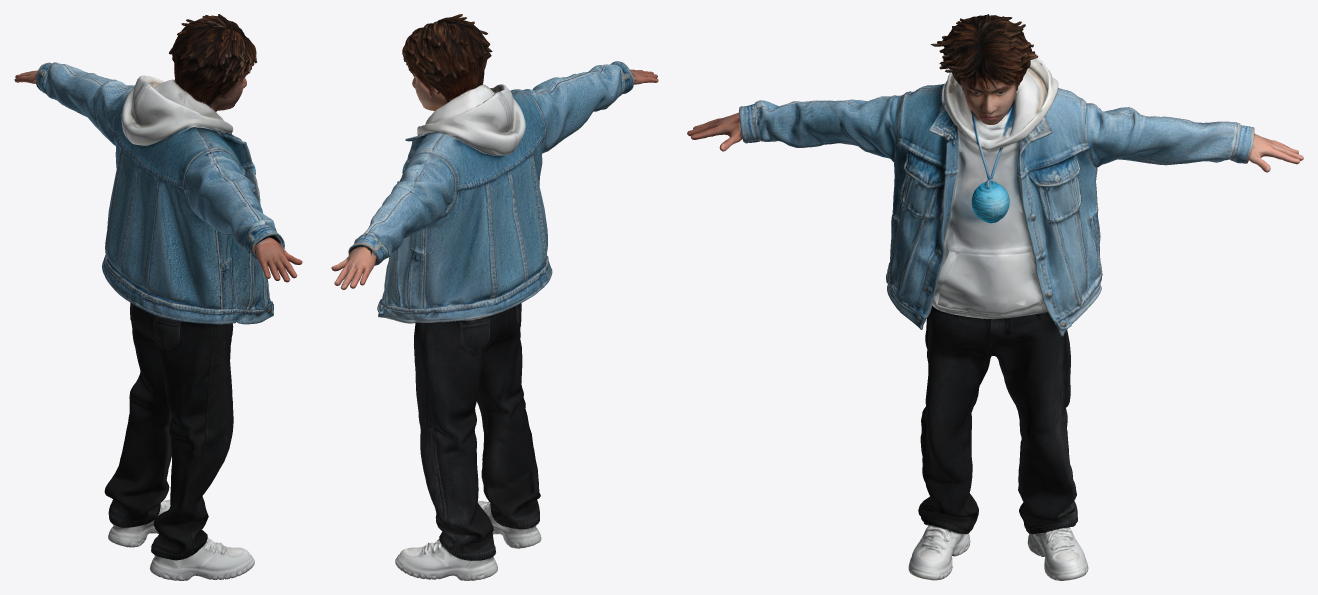
The model's file is master.glb.
3 renders of one model, left to right at view 1: azimuth 30°, elevation 25°; view 2: azimuth 150°, elevation 25°; view 3: azimuth 270°, elevation 25°, orthographic. The views are drawn at different scales.
Visible parts, largest first — view 1: w_tp_lantern_denim; view 2: w_tp_lantern_denim; view 3: w_tp_lantern_denim.
Part boxes in pixels (x1,y1,x2,y2): w_tp_lantern_denim: (14, 14, 302, 580); w_tp_lantern_denim: (331, 14, 658, 580); w_tp_lantern_denim: (687, 14, 1303, 580).
Size of the model in its own units: 0.462 by 1.78 by 1.77.
1 material, 1 textured.
